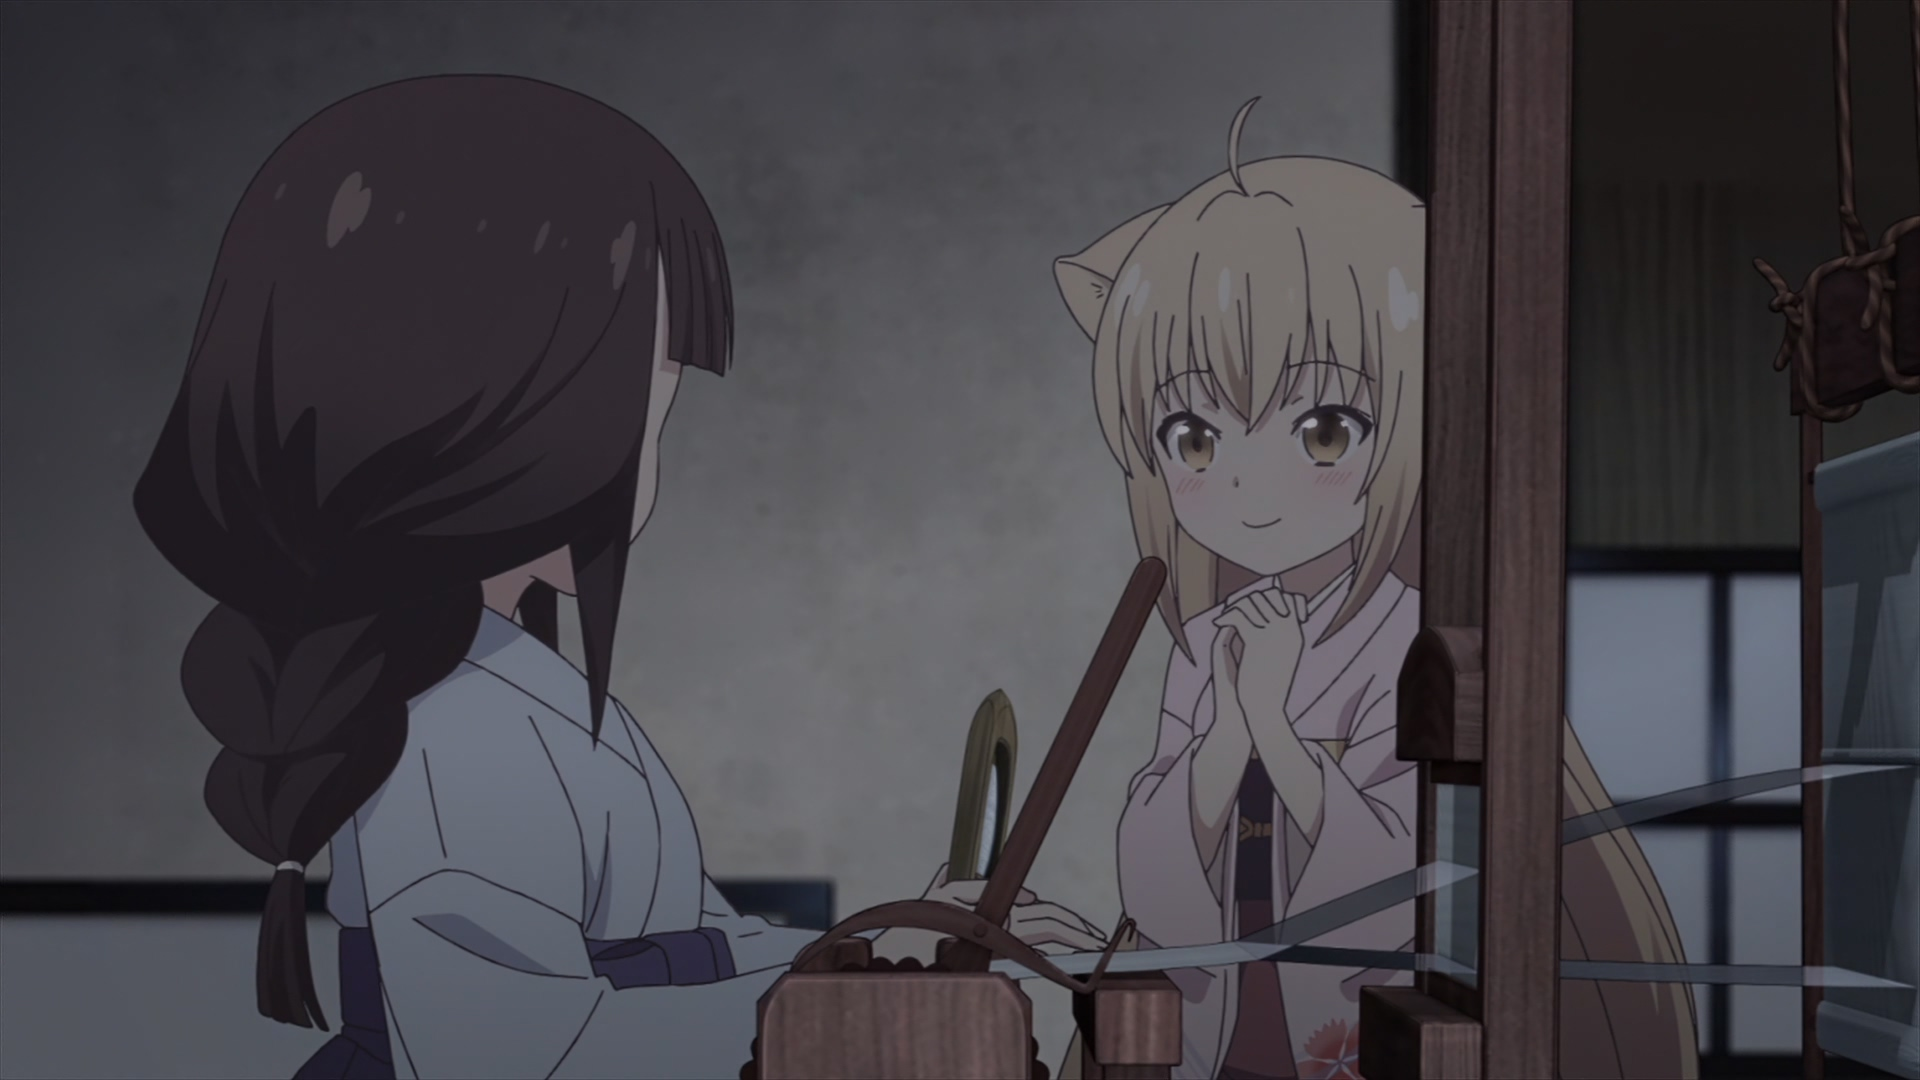其他: (135, 73, 1109, 1080)
柚: (1056, 98, 1701, 1080)
